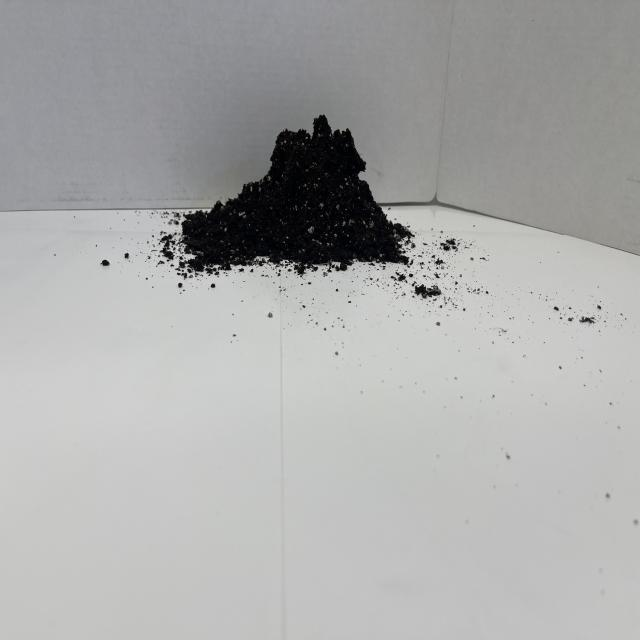soil: (179, 112, 414, 272)
